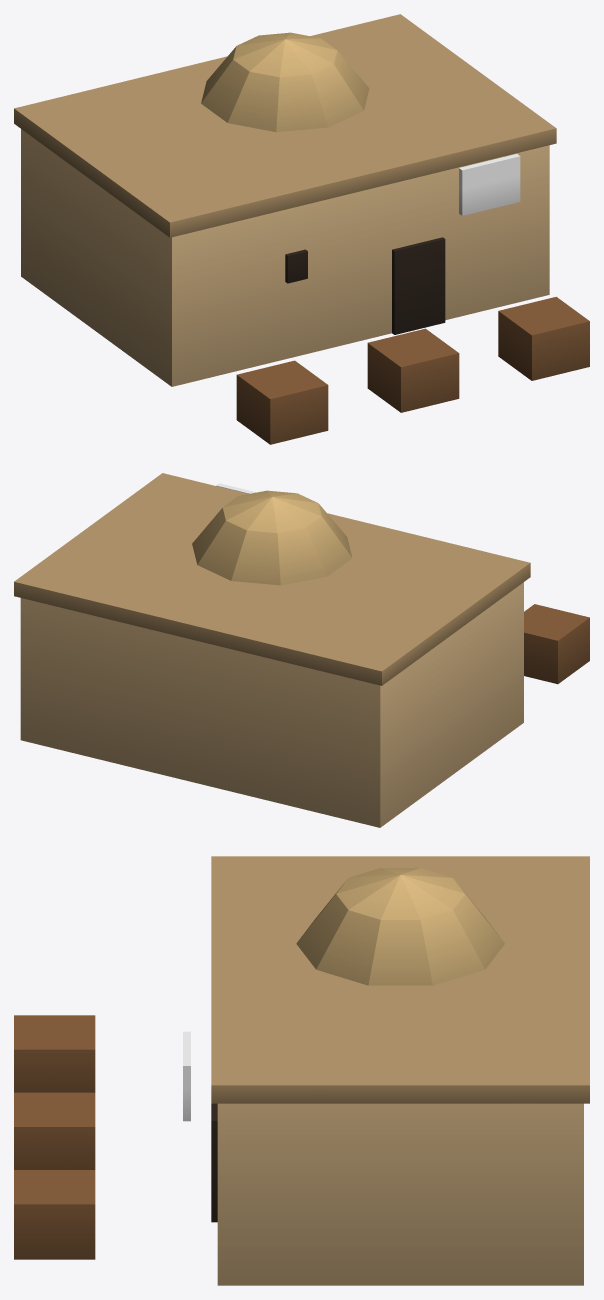
Rendered from INN_MA.glb.
3 renders of one model, top to bottom at view 1: azimuth 30°, elevation 25°; view 2: azimuth 150°, elevation 25°; view 3: azimuth 270°, elevation 25°, orthographic. The views are drawn at different scales.
Parts seen in each view (by area): view 1: Body; view 2: Body; view 3: Body.
Boxes of the visible parts, x1,y1,x2,y2 form: Body: [14, 14, 589, 444]; Body: [14, 473, 589, 827]; Body: [14, 856, 589, 1285].
Size of the model in its own units: 2.66 by 1.62 by 2.83.
1 material, 1 textured.
